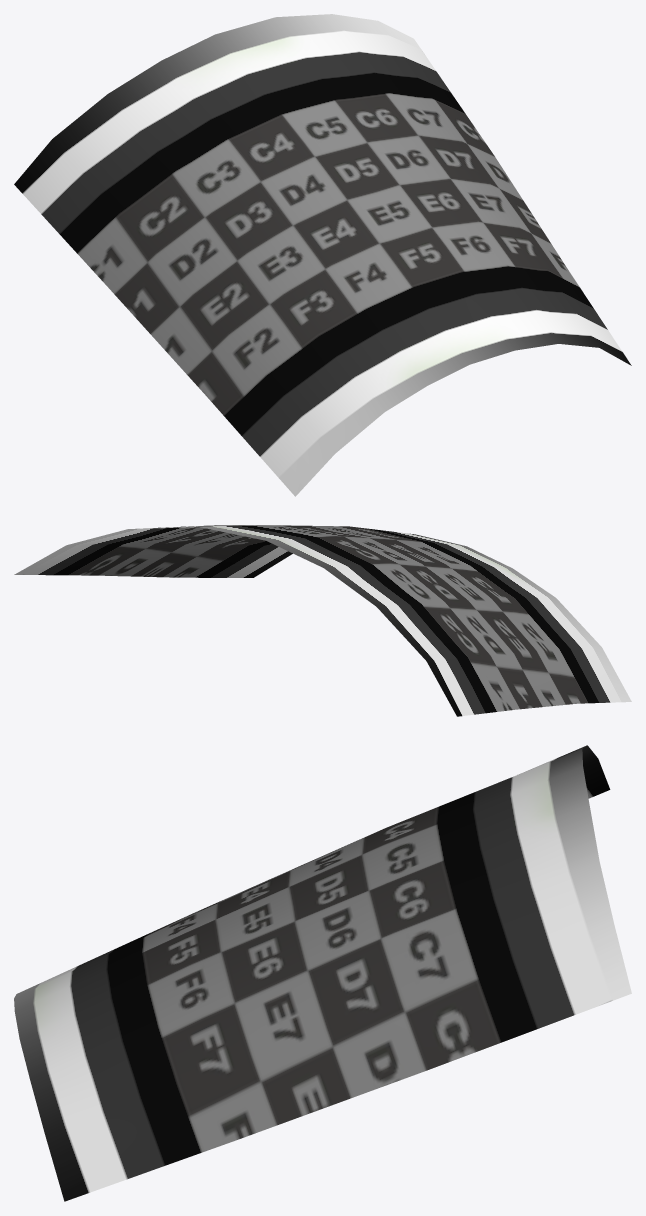
Rendered from status_left.obj.
3 views of the same model, one above another, from view 1: azimuth 30°, elevation 25°; view 2: azimuth 150°, elevation 25°; view 3: azimuth 270°, elevation 25° (orthographic). The views are drawn at different scales.
Visible parts, largest first — view 1: l_status; view 2: l_status; view 3: l_status.
Boxes of the visible parts, x1,y1,x2,y2 form: l_status: (14,14,631,496); l_status: (14,525,631,716); l_status: (14,745,631,1201).
Bounding box in the file's own units: 0.0235 × 0.0151 × 0.024.
1 material, 1 textured.
